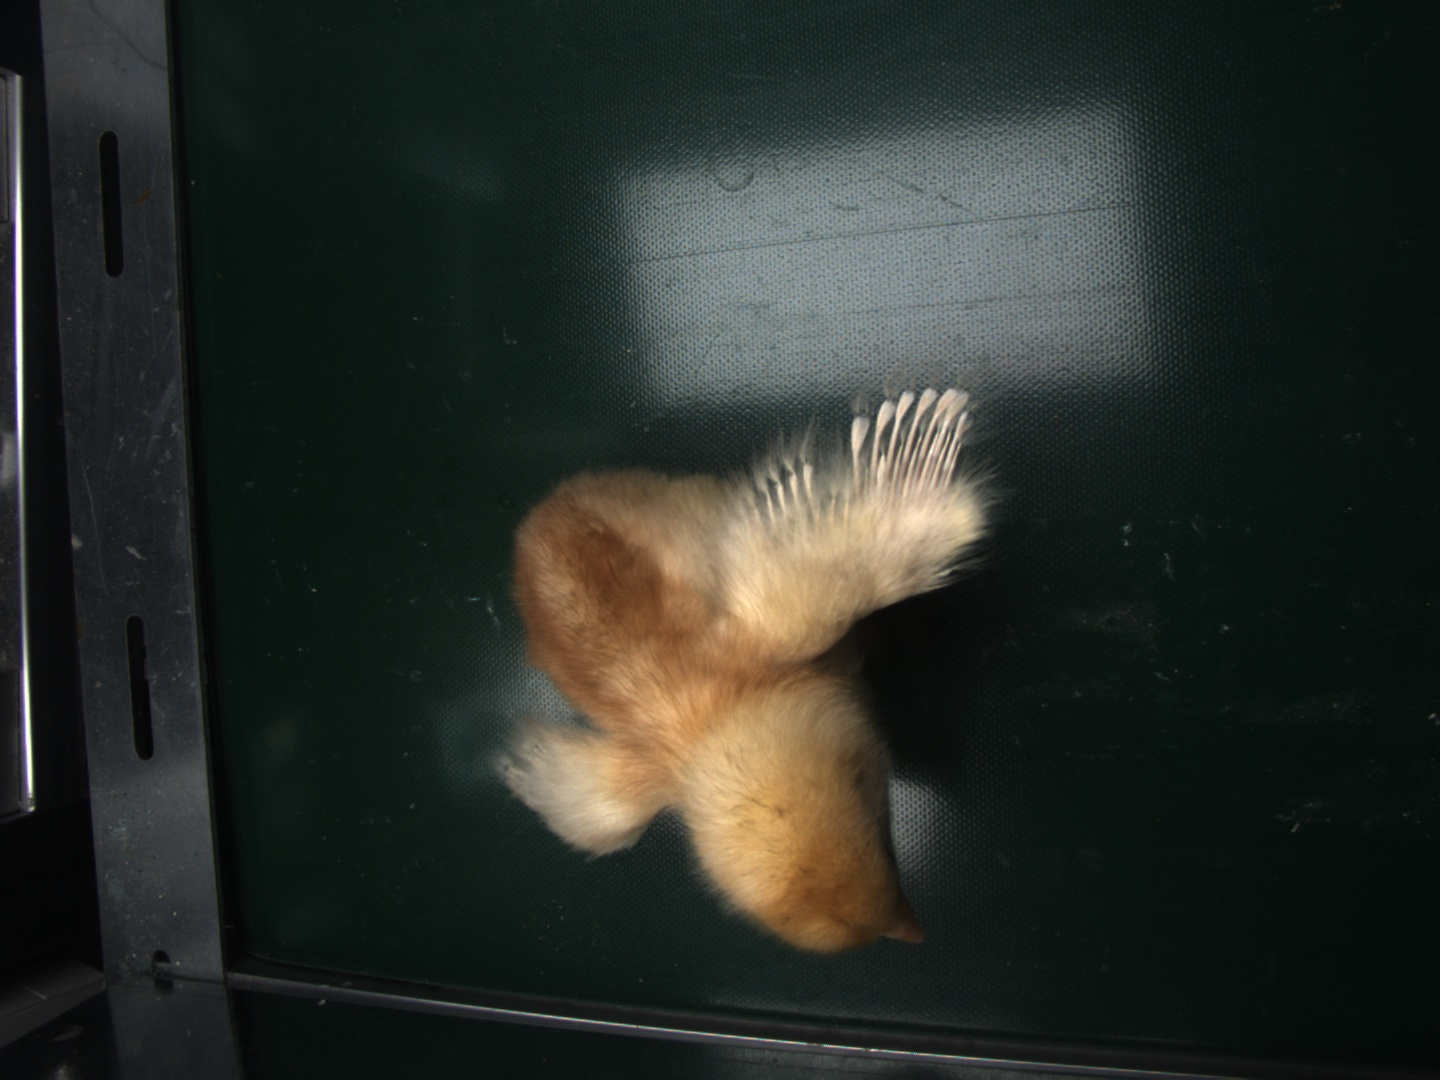female: (859, 389, 972, 483)
